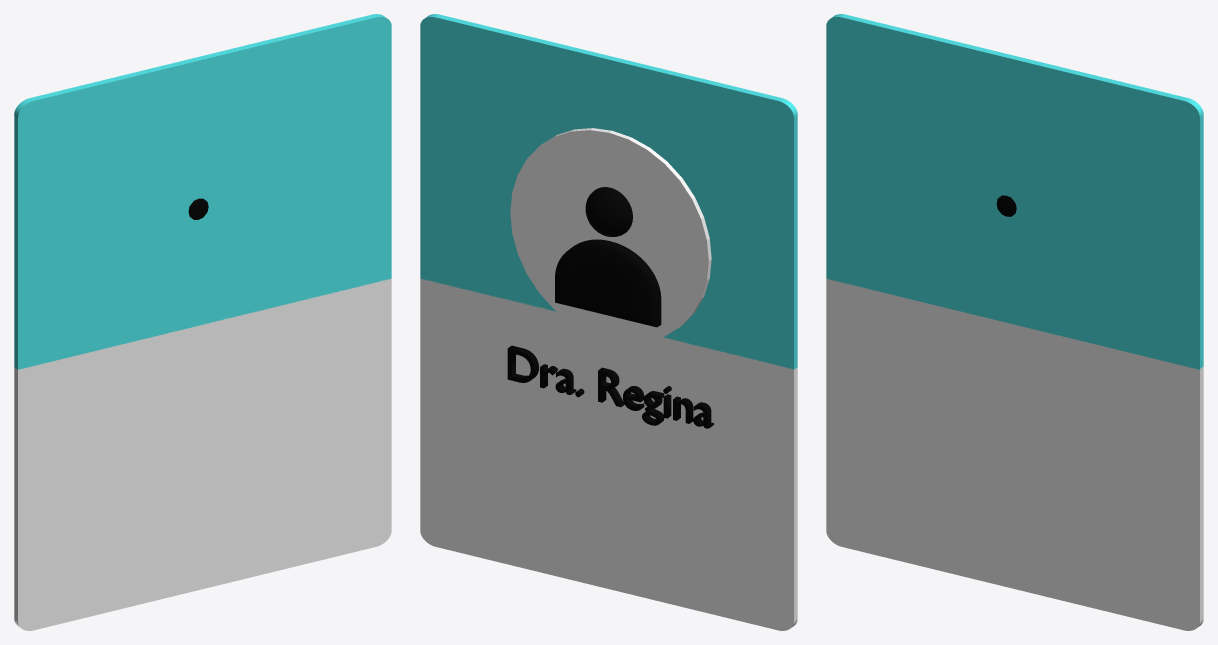
Rendered from idcard.fbx.
3 views of the same model, side by side, from view 1: azimuth 30°, elevation 25°; view 2: azimuth 150°, elevation 25°; view 3: azimuth 330°, elevation 25° (orthographic).
Visible parts, largest first — view 1: card; view 2: card, photofont, body, Text, head; view 3: card.
Boxes of the visible parts, bbox=[...] form: card: bbox=[14, 14, 391, 630]; card: bbox=[420, 14, 797, 630]; photofont: bbox=[510, 128, 711, 343]; body: bbox=[555, 239, 661, 327]; Text: bbox=[507, 345, 713, 428]; head: bbox=[585, 187, 632, 236]; card: bbox=[826, 14, 1203, 630].
Bounding box in the file's own units: 214 × 290 × 16.72.
